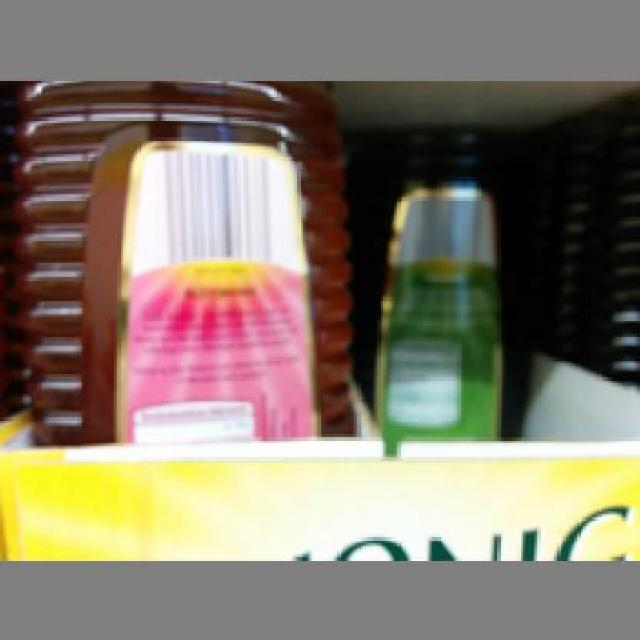Honey: (14, 74, 357, 440), (356, 130, 550, 444)
